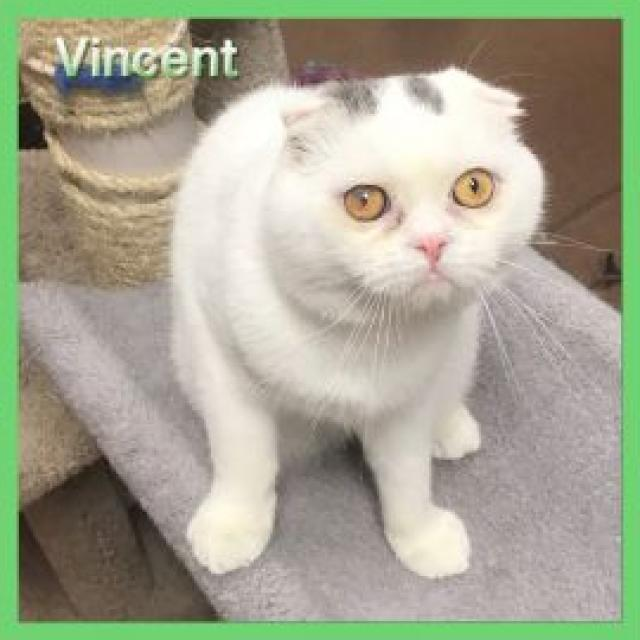Scottish Fold: (163, 63, 550, 588)
